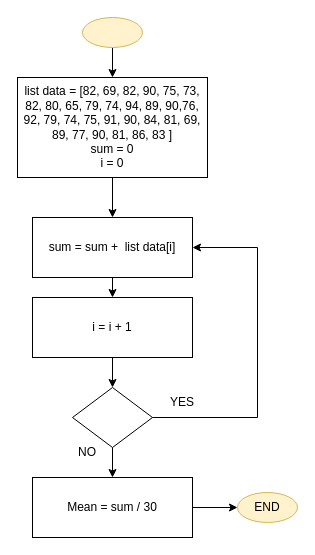
Image size: 315x555. Some labels were removed from this diagram. Each missing label, with the centre of its shape:
"i < 30" belongs at pixel 112 417.
"START" belongs at pixel 112 32.
